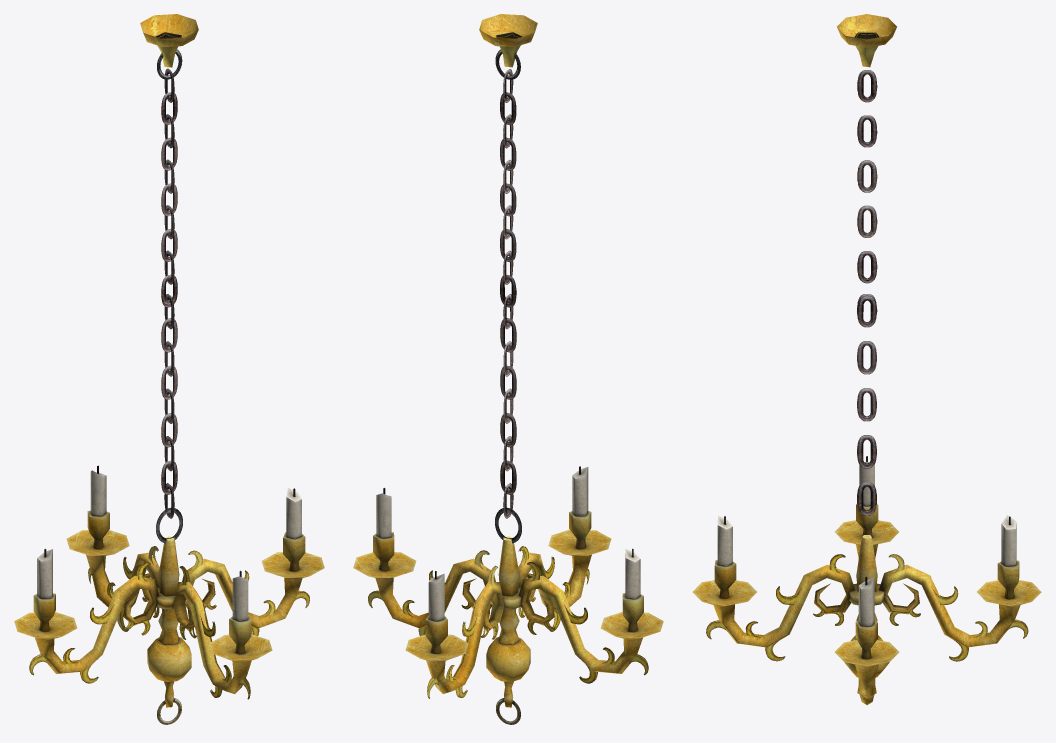
Rendered from chandelier_nice.dae.
3 views of the same model, side by side, from view 1: azimuth 30°, elevation 25°; view 2: azimuth 150°, elevation 25°; view 3: azimuth 270°, elevation 25° (orthographic).
Visible parts, largest first — view 1: lamp, chain, mount; view 2: lamp, chain, mount; view 3: lamp, chain, mount.
Part boxes in pixels (box(x1,y1,x2,y2)): lamp: box(14, 465, 324, 724); chain: box(156, 49, 182, 543); mount: box(140, 14, 198, 67); lamp: box(353, 466, 663, 724); chain: box(495, 49, 521, 543); mount: box(479, 14, 537, 67); lamp: box(692, 456, 1041, 704); chain: box(857, 70, 877, 515); mount: box(837, 14, 896, 67).
Bounding box in the file's own units: 1.49 × 3.28 × 1.49.
